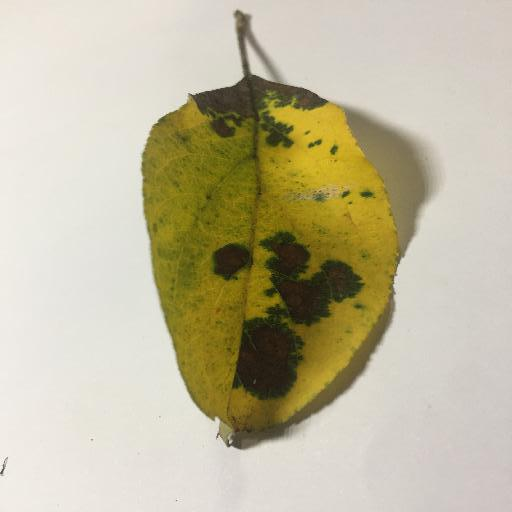Brown_Spot: (224, 320, 304, 408), (248, 78, 312, 114), (195, 91, 250, 126), (283, 281, 326, 320), (263, 243, 317, 274), (326, 268, 368, 306), (208, 247, 245, 276)
